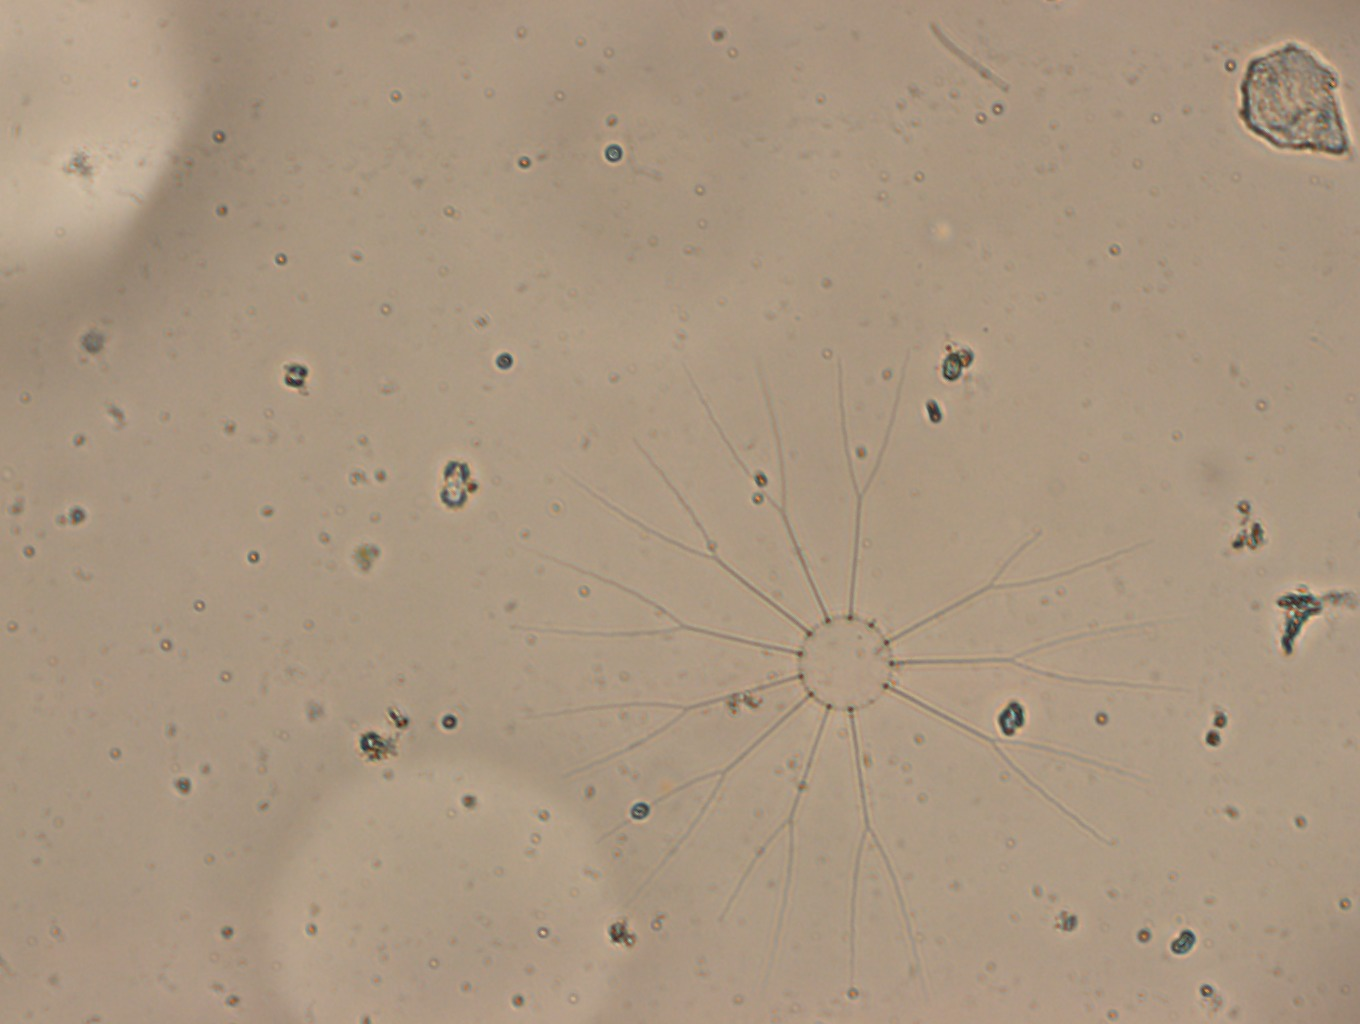helicotheca: (522, 352, 1179, 1000)
